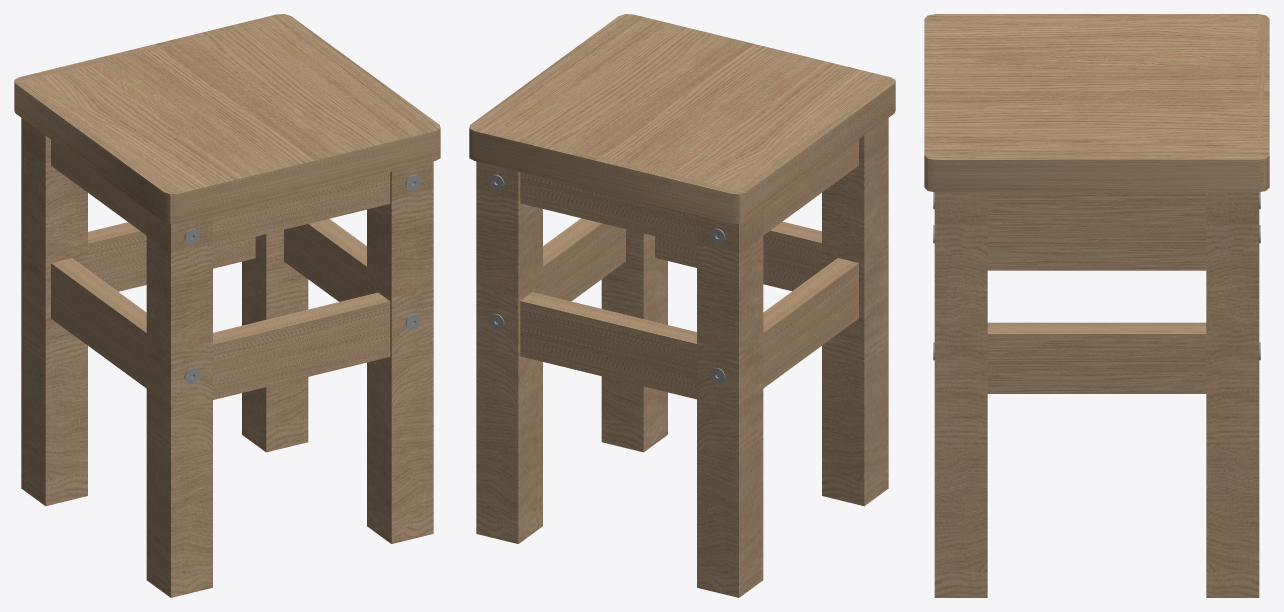
Rendered from трк.obj.
3 renders of one model, left to right at view 1: azimuth 30°, elevation 25°; view 2: azimuth 150°, elevation 25°; view 3: azimuth 270°, elevation 25°, orthographic. The views are drawn at different scales.
Parts seen in each view (by area): view 1: Cube.005, Cube.004, Cube.001, Cylinder.001_Cylinder.002; view 2: Cube.005, Cube.004, Cube.001, Cylinder.001_Cylinder.002; view 3: Cube.004, Cube.005, Cube.001.
Part boxes in pixels (x1,y1,x2,y2): Cube.005: [21, 118, 433, 597]; Cube.004: [14, 14, 440, 223]; Cube.001: [51, 139, 390, 399]; Cylinder.001_Cylinder.002: [184, 174, 420, 383]; Cube.005: [476, 118, 888, 597]; Cube.004: [469, 14, 895, 223]; Cube.001: [520, 139, 858, 399]; Cylinder.001_Cylinder.002: [489, 174, 725, 383]; Cube.004: [924, 14, 1269, 192]; Cube.005: [934, 192, 1259, 597]; Cube.001: [987, 192, 1206, 393].
Bounding box in the file's own units: 2.52 × 3.55 × 2.52.
2 materials, 1 textured.
